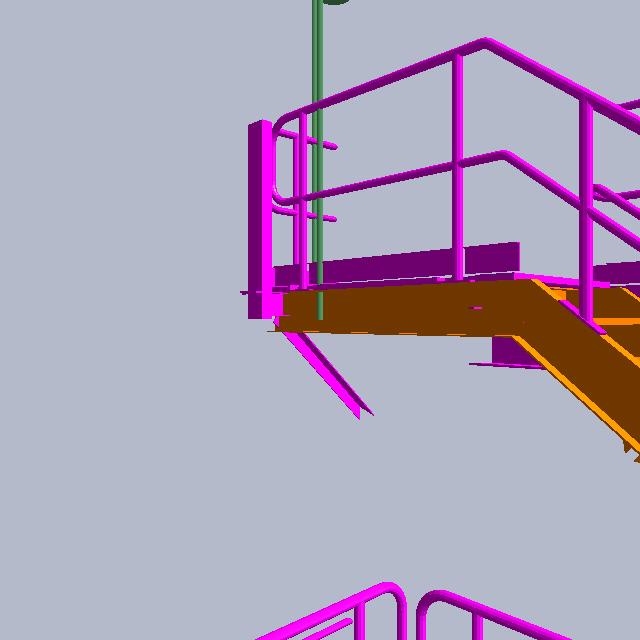Poste: (306, 1, 335, 330)
Soporte: (235, 112, 305, 345)
